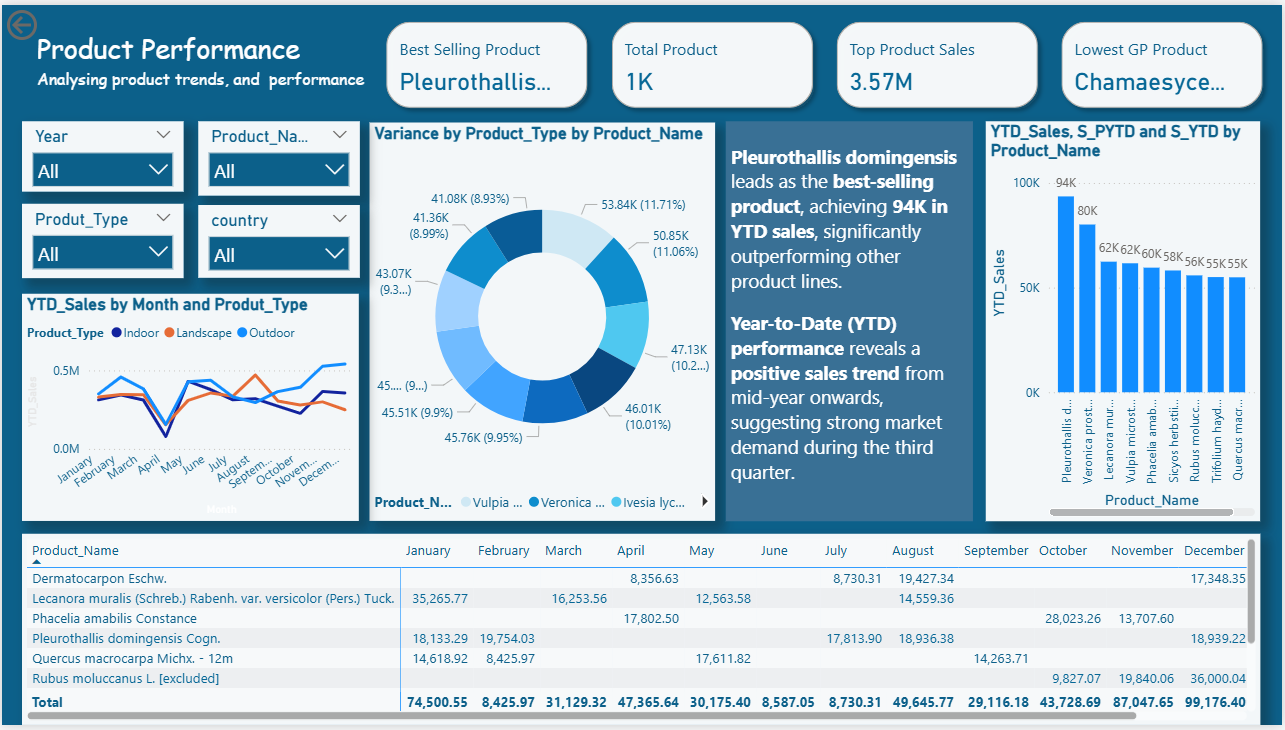

The page's visual inventory and layout, read from the dashboard file:
{"tool":"powerbi","page":{"name":"Product Performance","canvas":[1280,720],"ordinal":1},"visuals":[{"type":"textbox","box":[30.5,19.4,1249.8,109.5],"z":0},{"type":"donutChart","fields":{"Category":["Dim_Product.Product_Name"],"Y":["_Measures.Variance by Product_Type"]},"box":[367.1,117.1,345.7,398.6],"z":1000},{"type":"slicer","fields":{"Values":["Dim_Date.Date.Variation.Date Hierarchy.Year"]},"box":[20,116.2,161.4,70],"z":2000},{"type":"slicer","fields":{"Values":["Dim_Product.Produt_Type"]},"box":[20,198.6,161.4,74.3],"z":3000},{"type":"slicer","fields":{"Values":["Dim_Product.Product_Name"]},"box":[195.7,116.2,161.4,74.3],"z":4000},{"type":"slicer","fields":{"Values":["Dim_Accounts.country"]},"box":[195.7,200,161.4,72.9],"z":5000},{"type":"cardVisual","fields":{"Data":["Dim_Product.Best Selling Product","Dim_Product.Total Product","_Measures.Top Product Sales","_Measures.Lowest GP Product"]},"box":[367.1,0,912.9,120],"z":6000},{"type":"clusteredColumnChart","fields":{"Category":["Dim_Product.Product_Name"],"Y":["_Measures.YTD_Sales"]},"box":[984.3,115.7,274.3,400],"z":7000},{"type":"actionButton","box":[0,0,100,40],"z":8000},{"type":"lineChart","fields":{"Category":["Dim_Date.Date.Variation.Date Hierarchy.Month"],"Series":["Dim_Product.Produt_Type"],"Y":["_Measures.YTD_Sales"]},"box":[20,288.6,337.1,227.1],"z":9000},{"type":"pivotTable","fields":{"Rows":["Dim_Product.Product_Name"],"Columns":["Dim_Date.Date.Variation.Date Hierarchy.Month"],"Values":["_Measures.YTD_Sales"]},"box":[20,528.6,1238.6,191.4],"z":10000},{"type":"textbox","box":[724.3,115.7,247.1,400],"z":11500}]}

Visuals, with their boxes in screenshot pixels (x1, y1, x2, y2), scaled from the page's 1280x720 canvas onto the 1285x730 screenshot:
textbox: [31,20,1284,131]
donutChart - Dim_Product.Product_Name x _Measures.Variance by Product_Type: [369,119,716,523]
slicer - Dim_Date.Date.Variation.Date Hierarchy.Year: [20,118,182,189]
slicer - Dim_Product.Produt_Type: [20,201,182,277]
slicer - Dim_Product.Product_Name: [196,118,358,193]
slicer - Dim_Accounts.country: [196,203,358,277]
cardVisual - Dim_Product.Best Selling Product x Dim_Product.Total Product: [369,0,1284,122]
clusteredColumnChart - Dim_Product.Product_Name x _Measures.YTD_Sales: [988,117,1264,523]
actionButton: [0,0,100,41]
lineChart - Dim_Date.Date.Variation.Date Hierarchy.Month x Dim_Product.Produt_Type: [20,293,358,523]
pivotTable - Dim_Product.Product_Name x Dim_Date.Date.Variation.Date Hierarchy.Month: [20,536,1264,729]
textbox: [727,117,975,523]
